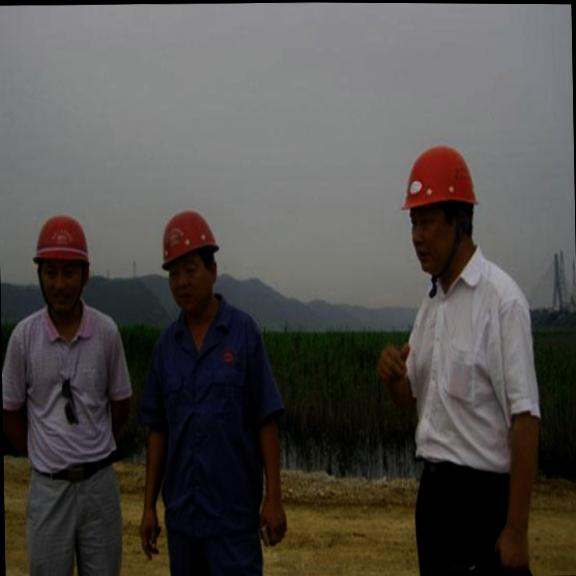no_safety_vest: (385, 252, 548, 486), (132, 296, 286, 529), (1, 305, 138, 483)
